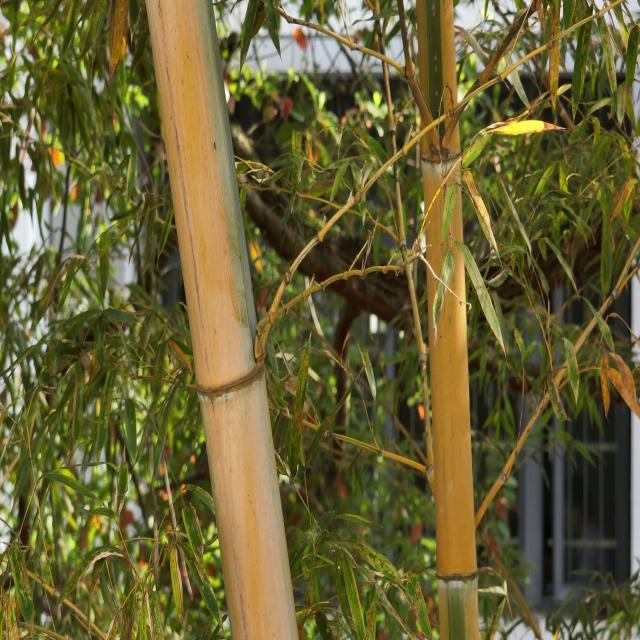Bamboo-shoots: (145, 0, 300, 640), (418, 0, 478, 640)
